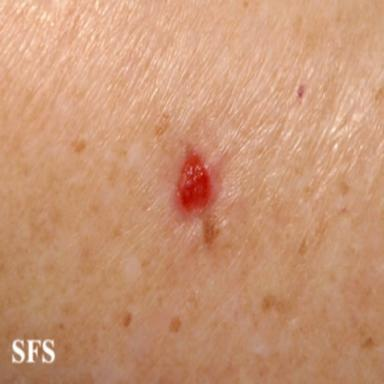basal-cell-carcinoma: (175, 143, 218, 222)
